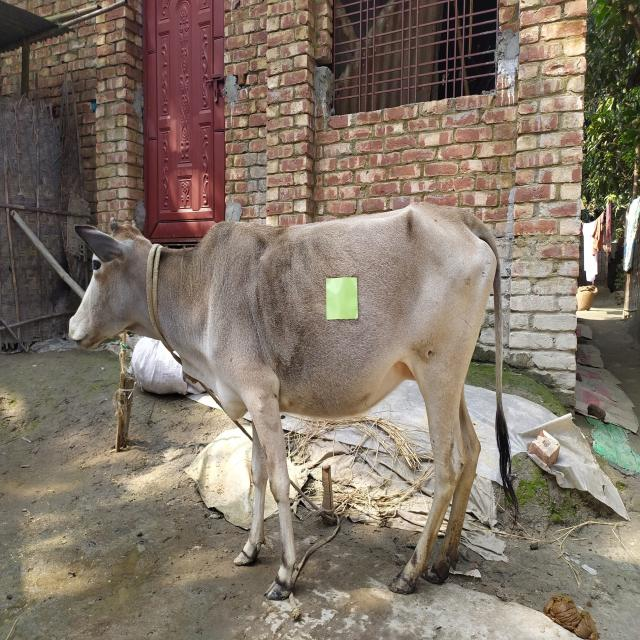badan_sapi: (236, 210, 472, 418)
sapi: (55, 205, 530, 603)
